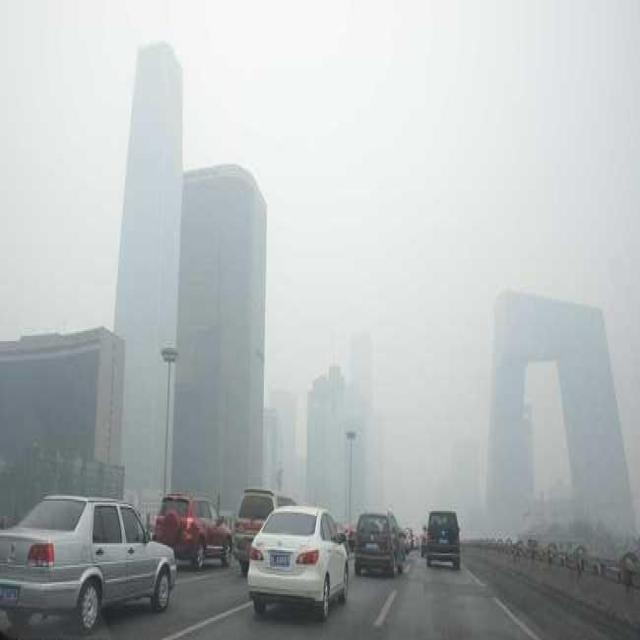Car: (0, 472, 175, 640), (245, 505, 348, 621), (154, 492, 233, 570), (233, 487, 303, 574), (352, 511, 404, 576), (422, 509, 460, 568)
